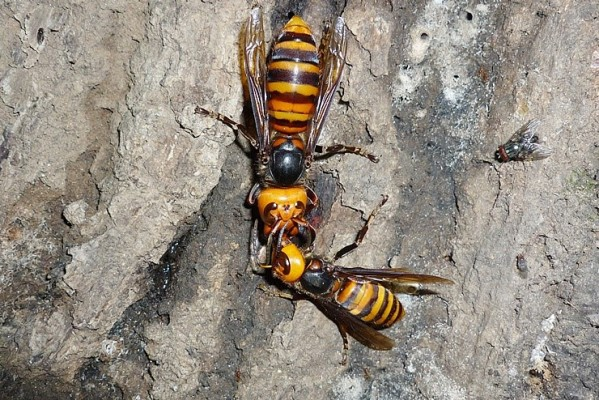asian_giant_hornet: (249, 9, 326, 245), (257, 234, 407, 329)
